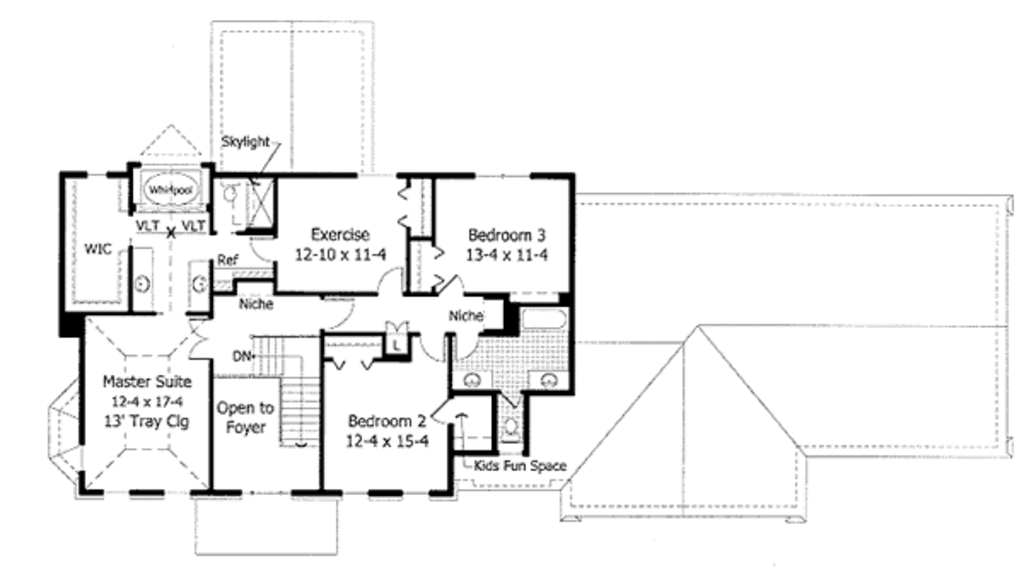door: (320, 297, 361, 335), (186, 316, 214, 362), (415, 331, 448, 363), (246, 231, 277, 264), (374, 267, 407, 296), (448, 333, 477, 361)
large_sink: (499, 416, 523, 446)
small_sink: (133, 244, 153, 313), (185, 257, 209, 312), (451, 369, 497, 391), (527, 367, 569, 389)
stairs: (242, 335, 321, 452)
tub: (140, 169, 202, 210), (516, 307, 571, 333)
windows: (239, 484, 302, 499), (471, 169, 535, 183)
